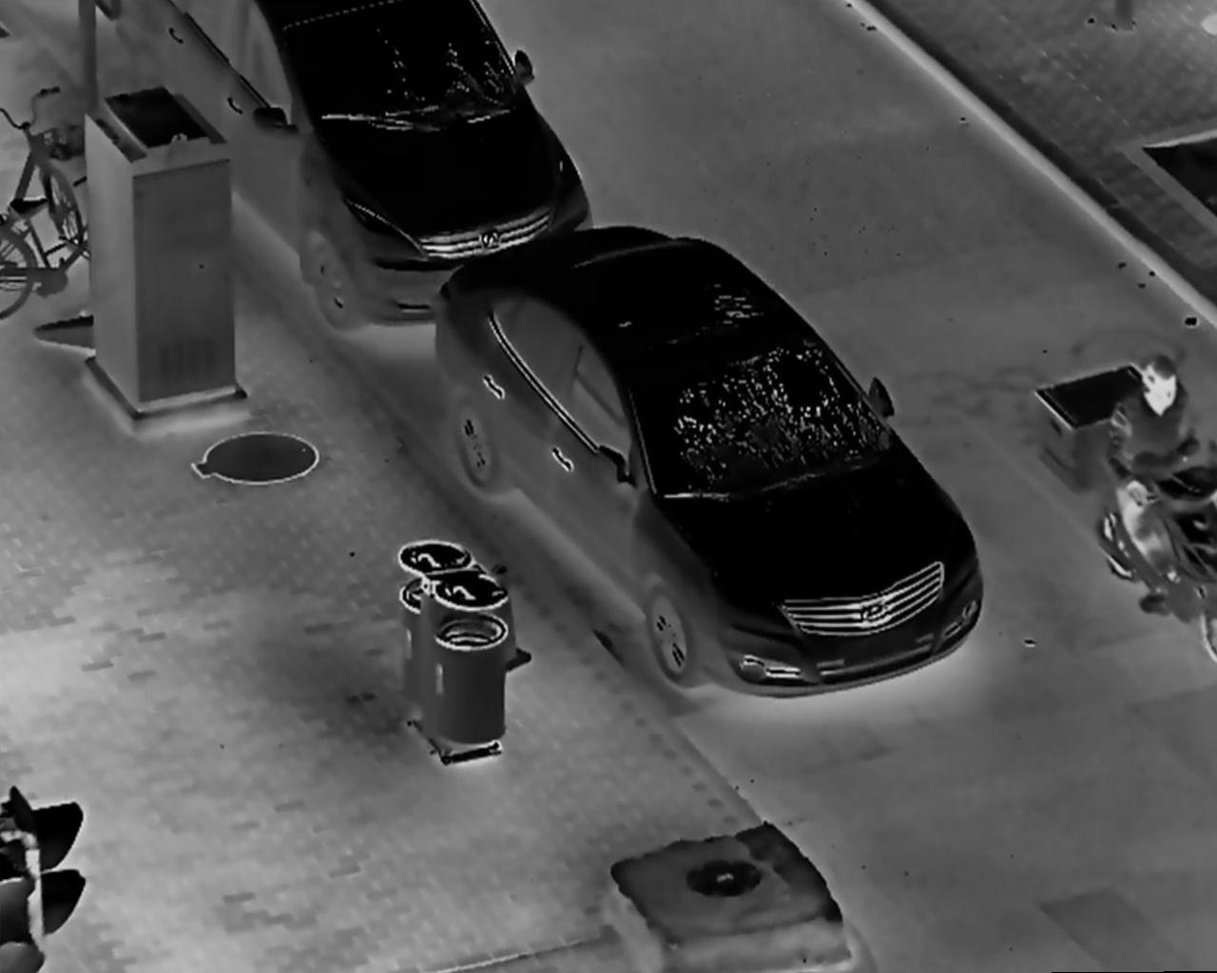person: (1106, 353, 1214, 593)
